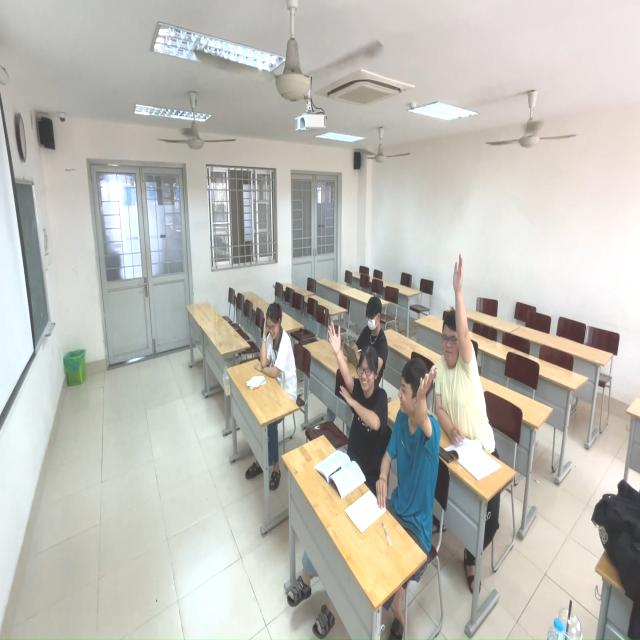raise_hand: (434, 257, 489, 475), (379, 357, 444, 533), (329, 327, 388, 488)
read: (256, 292, 297, 389), (352, 287, 390, 377)
